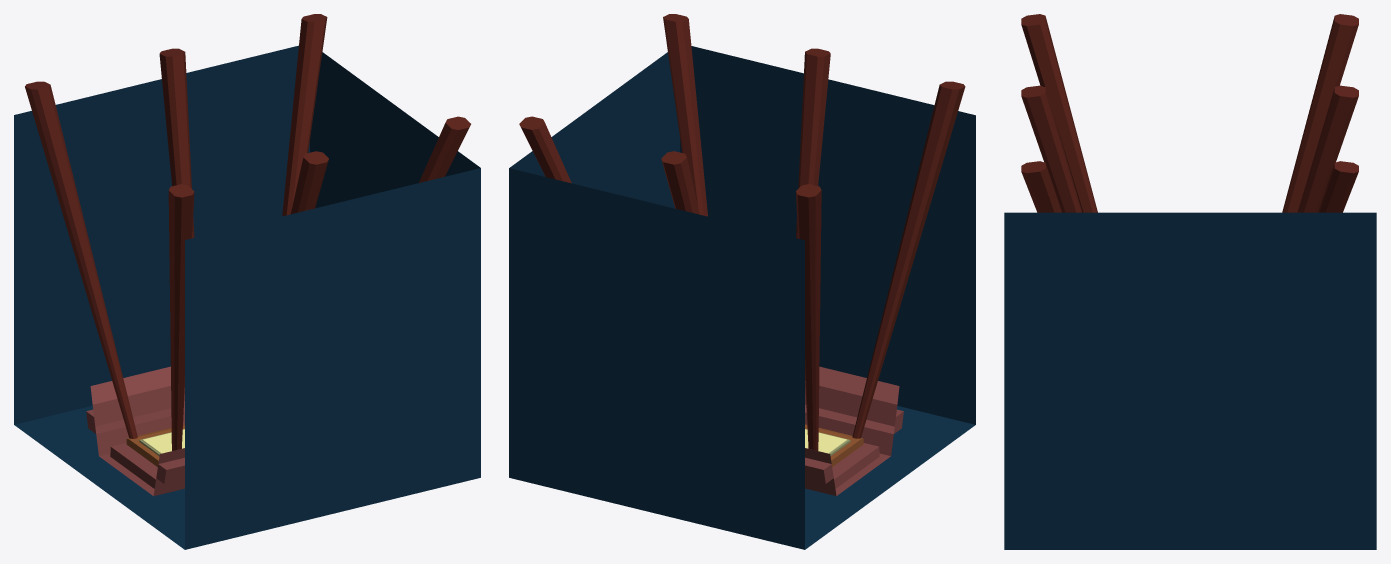
Rendered from arena.fbx.
3 views of the same model, side by side, from view 1: azimuth 30°, elevation 25°; view 2: azimuth 150°, elevation 25°; view 3: azimuth 270°, elevation 25° (orthographic). The views are drawn at different scales.
Parts seen in each view (by area): view 1: Cube.005, Cube.001, Cube; view 2: Cube.005, Cube.001, Cube, Cube.002; view 3: Cube.005, Cube.001.
Part boxes in pixels (x1,y1,x2,y2): Cube.005: (14,45,480,549); Cube.001: (25,14,470,450); Cube: (86,366,184,496); Cube.005: (509,46,975,549); Cube.001: (519,14,965,450); Cube: (805,366,903,495); Cube.002: (805,429,850,455); Cube.005: (1004,212,1376,549); Cube.001: (1021,14,1358,212).
Size of the model in its own units: 3358 by 3768 by 3352.
